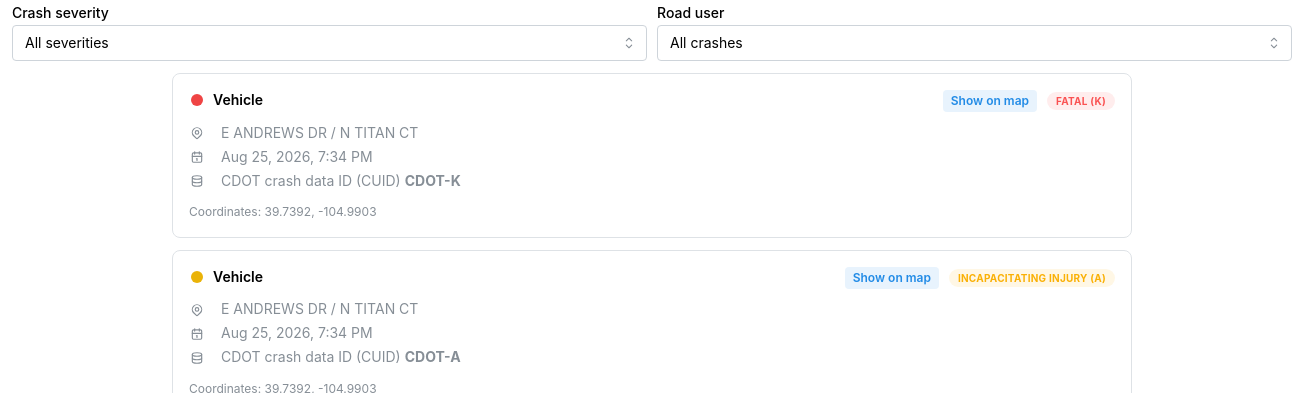
CrashList filters › filters the list to Incapacitating Injury (A) crashes
This screenshot has width=1304, height=410.
What coordinates should you click on to do the following:
click the field labelled "Crash severity"
I would click on:
 (330, 43)
Its box is [12,25,647,61].
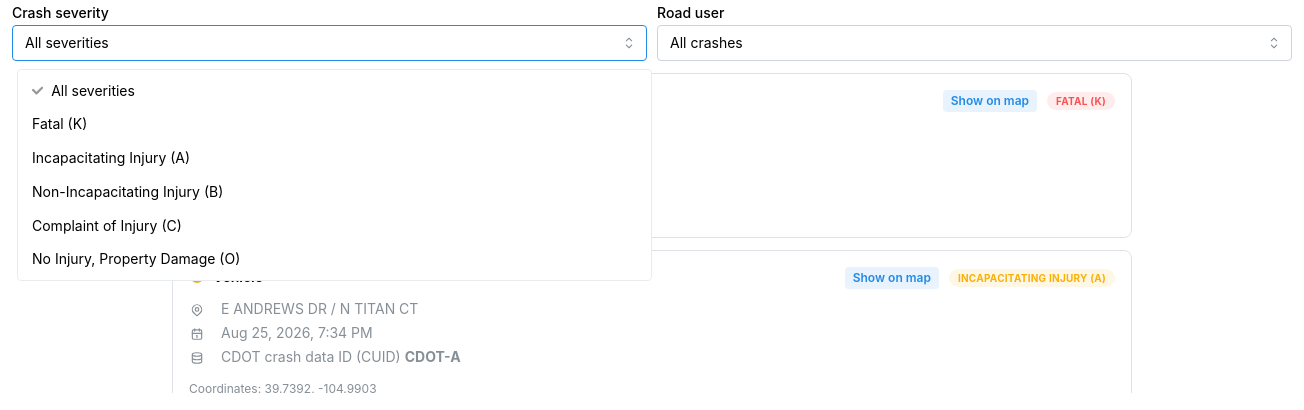
What coordinates should you click on to do the following:
click the option "Incapacitating Injury (A)"
I would click on:
 (111, 158)
Its box is [32,149,190,166].
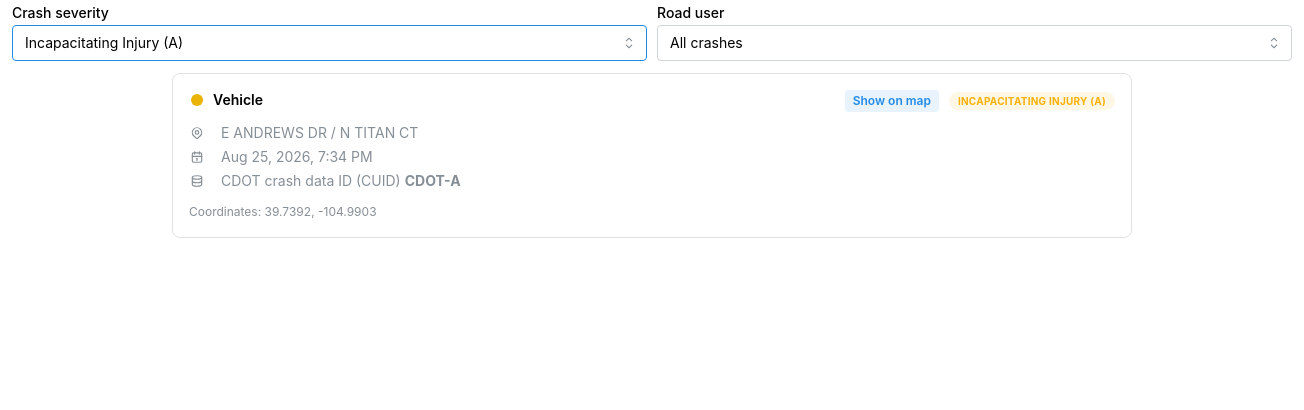
Expected: the text "CDOT-A" is shown, [405,172,461,189]
Expected: the text "CDOT-K" is gone
